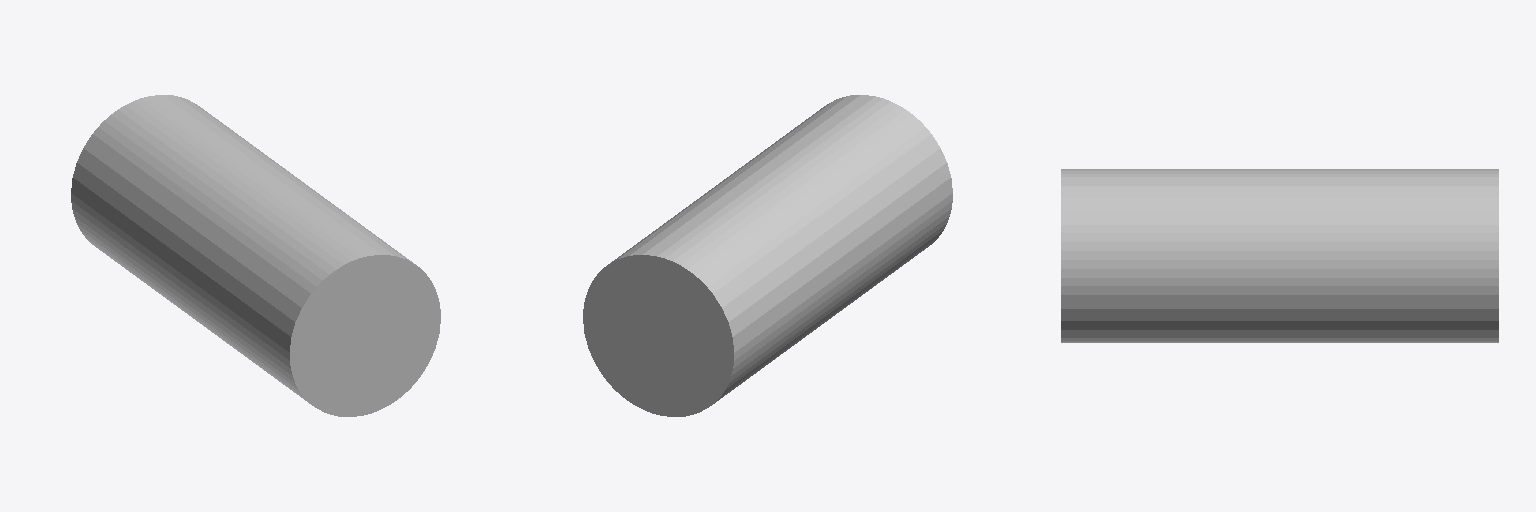
File: shaft3.obj
The picture shows the model from 3 angles: view 1: azimuth 30°, elevation 25°; view 2: azimuth 150°, elevation 25°; view 3: azimuth 270°, elevation 25°; orthographic projection.
Size of the model in its own units: 0.04 by 0.04 by 0.1.